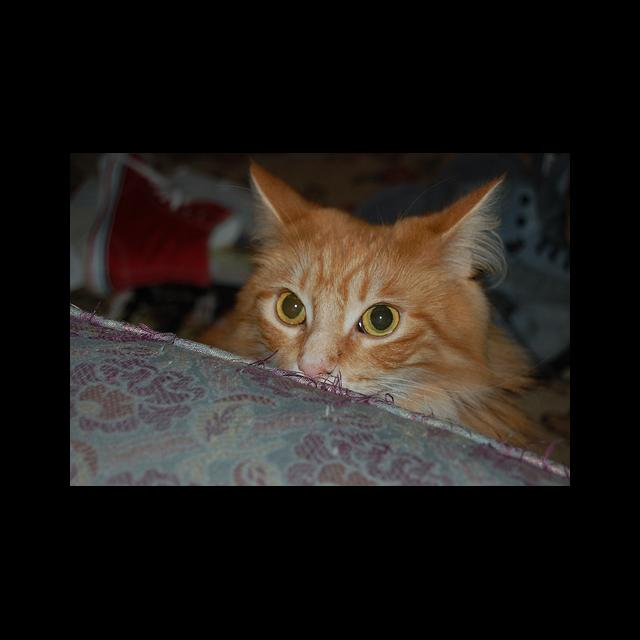animals: (249, 158, 501, 382)
